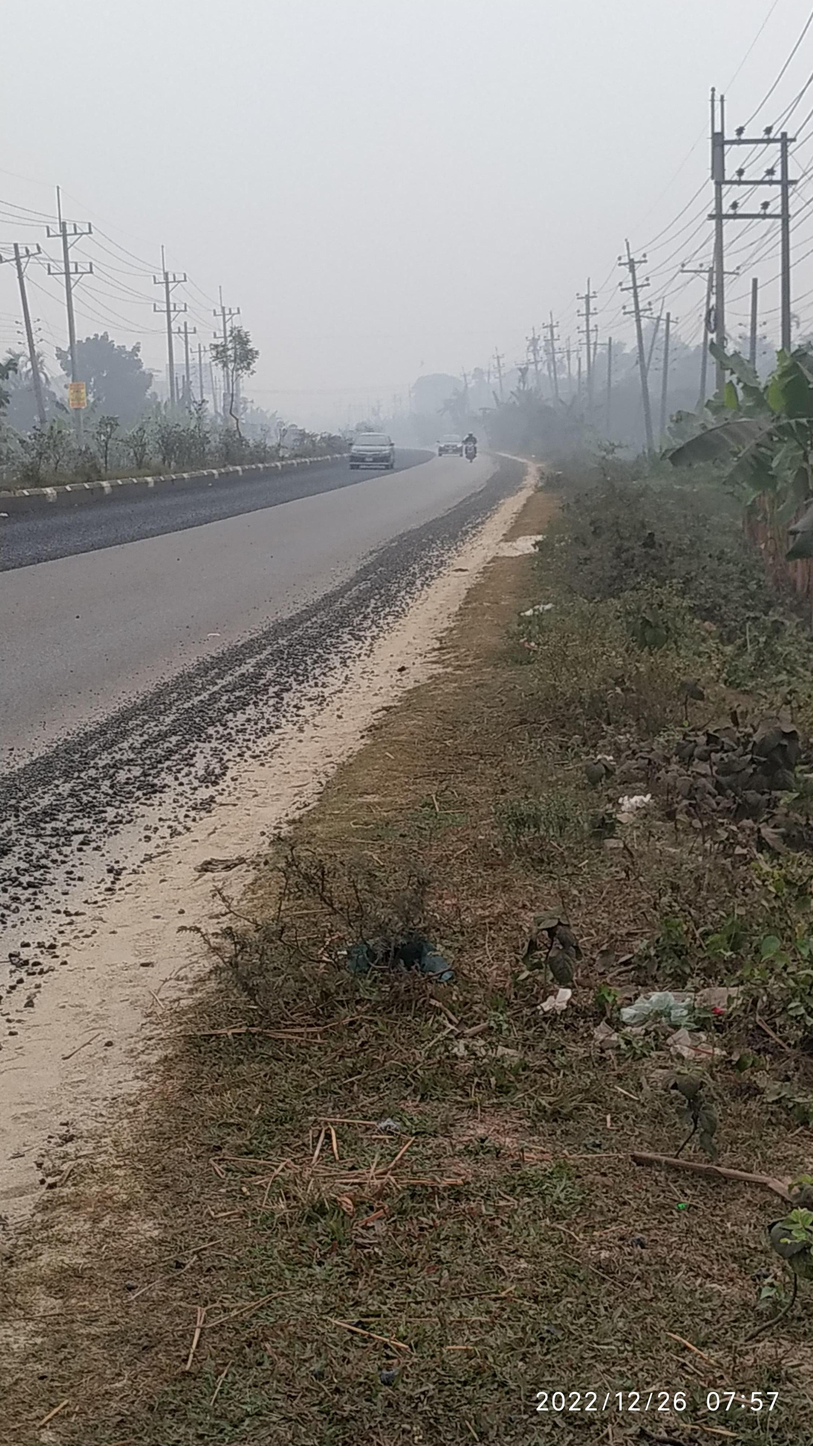Bike: (457, 426, 492, 477)
Car: (336, 429, 414, 482), (426, 419, 462, 465)
